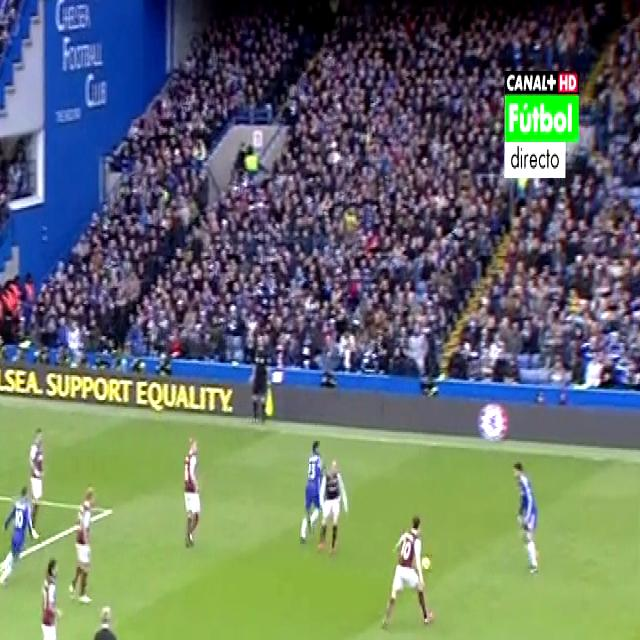ball: (416, 539, 434, 583)
referee: (248, 330, 274, 438), (86, 601, 125, 640)
soccer-player: (389, 510, 431, 634), (506, 452, 542, 575), (27, 551, 70, 640), (179, 425, 208, 555), (0, 482, 34, 590), (318, 454, 351, 565), (73, 464, 98, 604), (28, 425, 56, 545), (300, 429, 324, 545)
